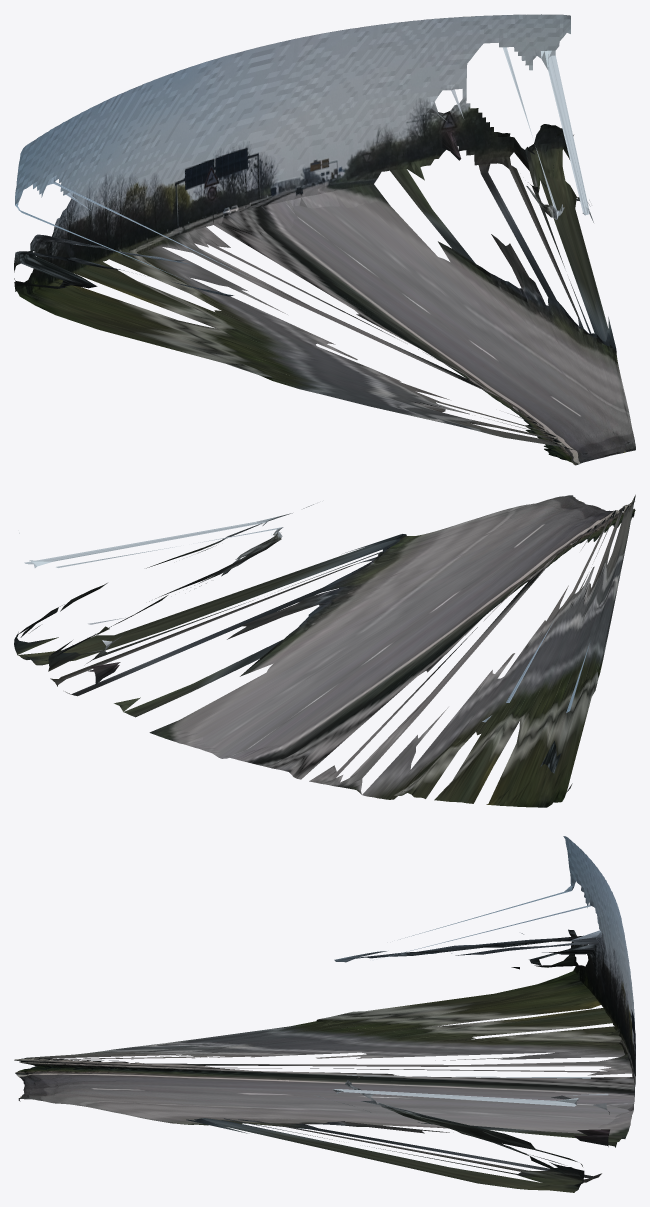
The picture shows the model from 3 angles, top to bottom: view 1: azimuth 30°, elevation 25°; view 2: azimuth 150°, elevation 25°; view 3: azimuth 270°, elevation 25°; orthographic projection. The views are drawn at different scales.
Visible parts, largest first — view 1: defaultobject; view 2: defaultobject; view 3: defaultobject.
Boxes of the visible parts, x1=… form: defaultobject: x1=14, y1=14, x2=635, y2=465; defaultobject: x1=14, y1=494, x2=635, y2=807; defaultobject: x1=14, y1=836, x2=635, y2=1192.
Size of the model in its own units: 40.91 by 12.45 by 44.85.
1 material, 1 textured.
